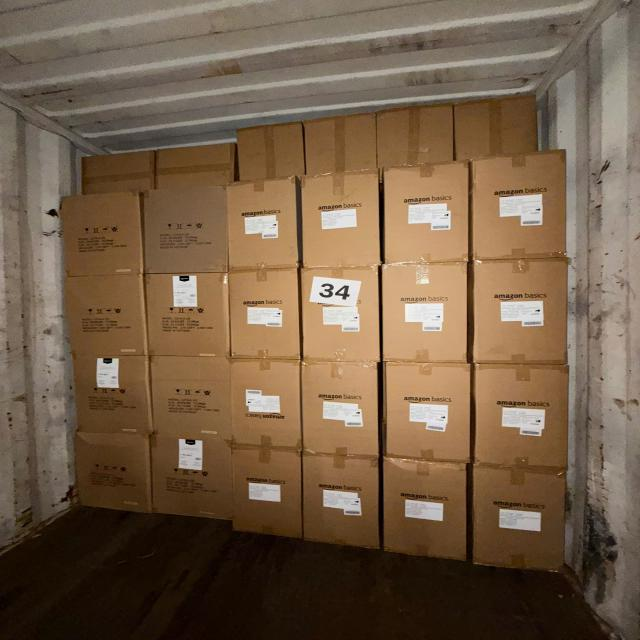Carton: (470, 259, 569, 368), (468, 153, 566, 261), (471, 362, 569, 469), (470, 468, 566, 576), (382, 362, 472, 467), (381, 456, 466, 564), (380, 261, 467, 363), (384, 163, 470, 263), (304, 453, 382, 552), (303, 267, 383, 363), (304, 173, 383, 270), (304, 358, 382, 454), (148, 273, 234, 357), (153, 357, 236, 442), (152, 436, 236, 519), (65, 273, 150, 355), (233, 446, 304, 542), (145, 195, 227, 278), (60, 191, 142, 274), (72, 430, 151, 513), (231, 360, 303, 451), (227, 271, 298, 362), (75, 354, 156, 432), (226, 178, 296, 268)
